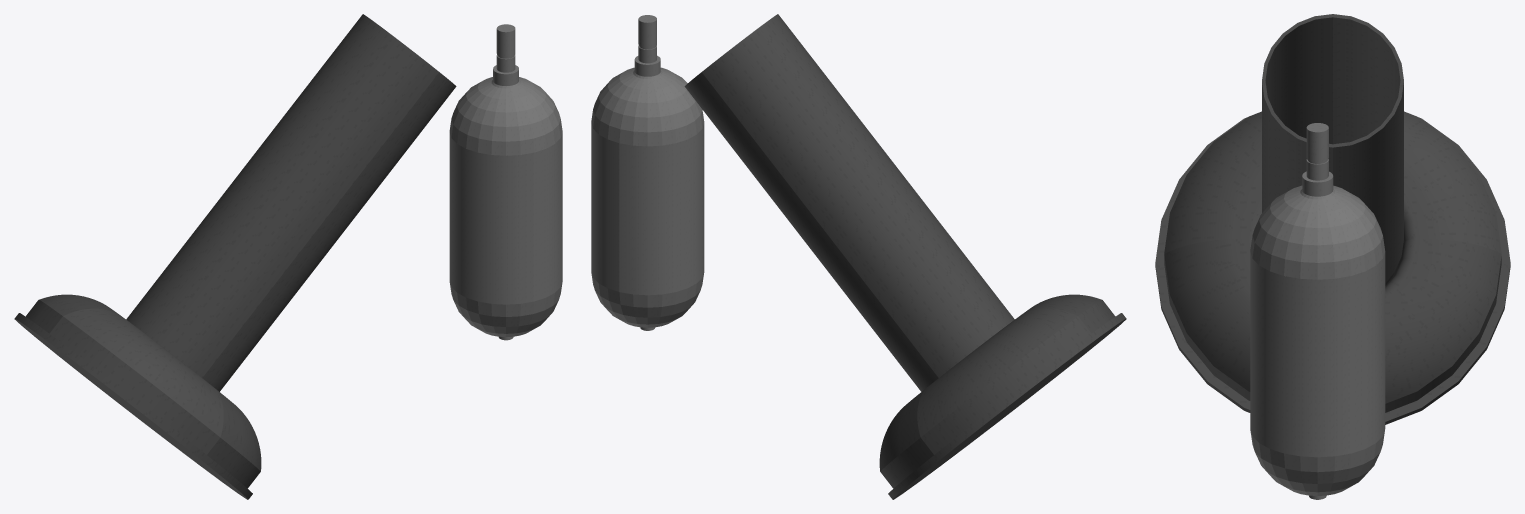
The model's file is Livens Projector.dae.
3 views of the same model, side by side, from view 1: azimuth 30°, elevation 25°; view 2: azimuth 150°, elevation 25°; view 3: azimuth 270°, elevation 25° (orthographic). The views are drawn at different scales.
Visible parts, largest first — view 1: LivensProjectorBarrel, GasDrum (×2), LivensProjectorBasePlate (×2); view 2: LivensProjectorBarrel, GasDrum (×2), LivensProjectorBasePlate (×2); view 3: LivensProjectorBasePlate (×2), GasDrum (×3), LivensProjectorBarrel (×2), CUP.
Part boxes in pixels (x1,y1,x2,y2): LivensProjectorBarrel: [126, 14, 456, 391]; GasDrum (×2): [449, 24, 562, 336]; LivensProjectorBasePlate (×2): [14, 294, 261, 499]; LivensProjectorBarrel: [684, 14, 1014, 391]; GasDrum (×2): [591, 15, 704, 327]; LivensProjectorBasePlate (×2): [879, 294, 1126, 499]; LivensProjectorBasePlate (×2): [1155, 111, 1510, 424]; GasDrum (×3): [1250, 123, 1385, 495]; LivensProjectorBarrel (×2): [1262, 14, 1403, 285]; CUP: [1302, 171, 1333, 196].
Size of the model in its own units: 39.42 by 20 by 31.47.
Materials: 2 (2 with a texture image).
